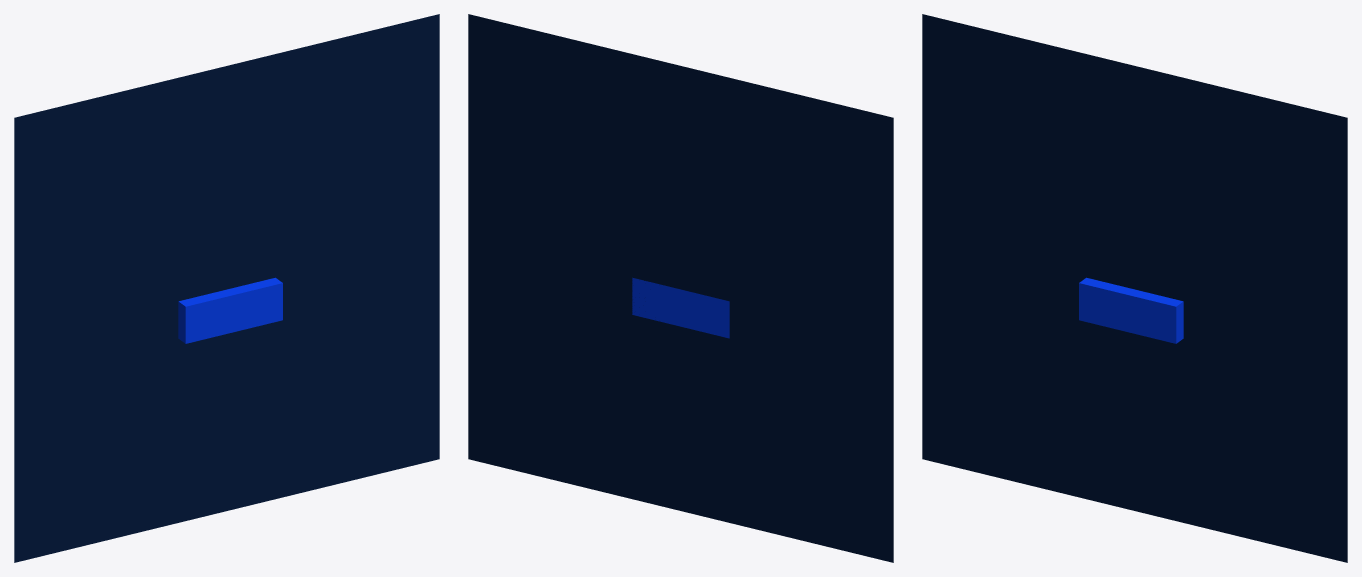
The picture shows the model from 3 angles, left to right: view 1: azimuth 30°, elevation 25°; view 2: azimuth 150°, elevation 25°; view 3: azimuth 330°, elevation 25°; orthographic projection.
Visible parts, largest first — view 1: Background, BoxCenter; view 2: Background, BoxCenter; view 3: Background, BoxCenter.
Part boxes in pixels (x1,y1,x2,y2): Background: [14, 14, 439, 562]; BoxCenter: [178, 277, 282, 343]; Background: [468, 14, 893, 562]; BoxCenter: [632, 277, 729, 338]; Background: [922, 14, 1347, 562]; BoxCenter: [1079, 277, 1183, 343].
Bounding box in the file's own units: 200 × 200 × 6.
